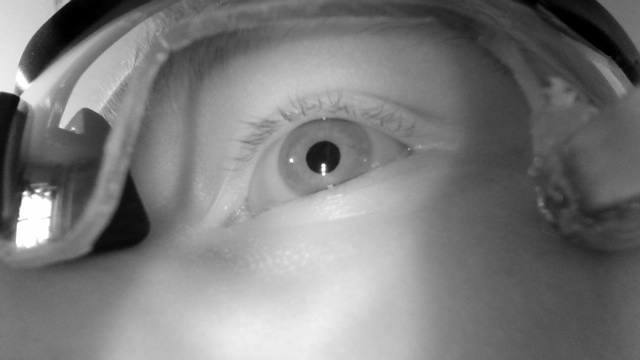pupil: (305, 140, 341, 174)
